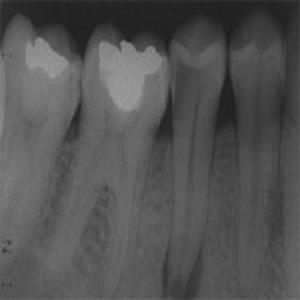tooth: (78, 25, 171, 269), (0, 14, 80, 246), (166, 18, 228, 270), (226, 13, 284, 257)
